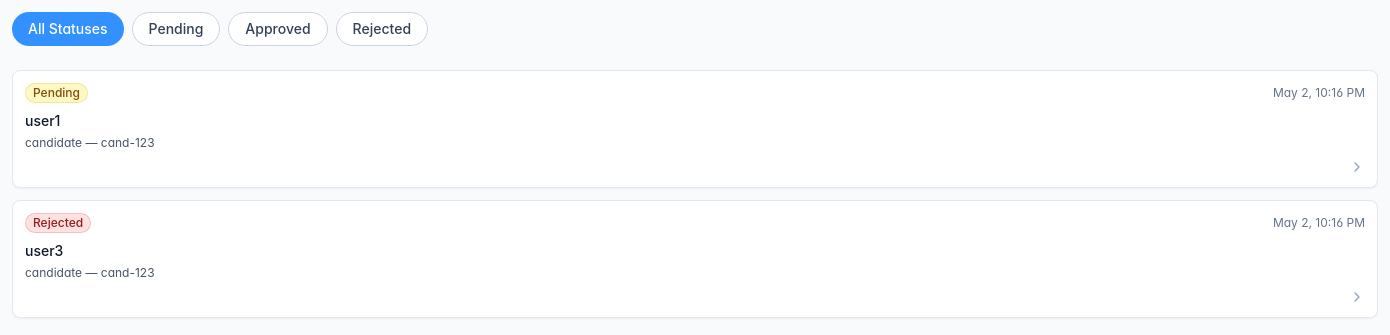
Test: ApprovalCardList › filters to rejected approvals when rejected chip is clicked
Step 1. Click the button "Rejected" → x=382, y=29, box 336,12 -> 428,46
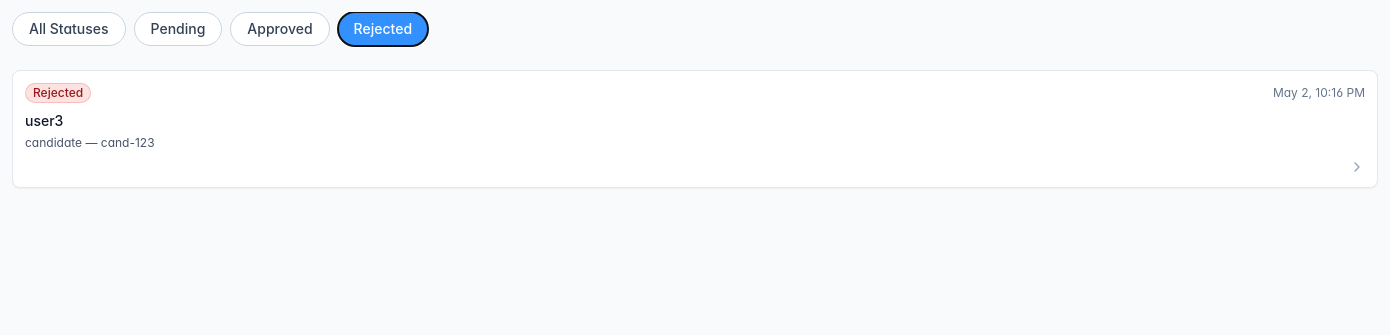
Expected: the text with test id "approval-card-submitter" reads "user3", 25,112 -> 63,129
Now the number of buttons with test id "approval-card" is 1, box 12,70 -> 1378,188
